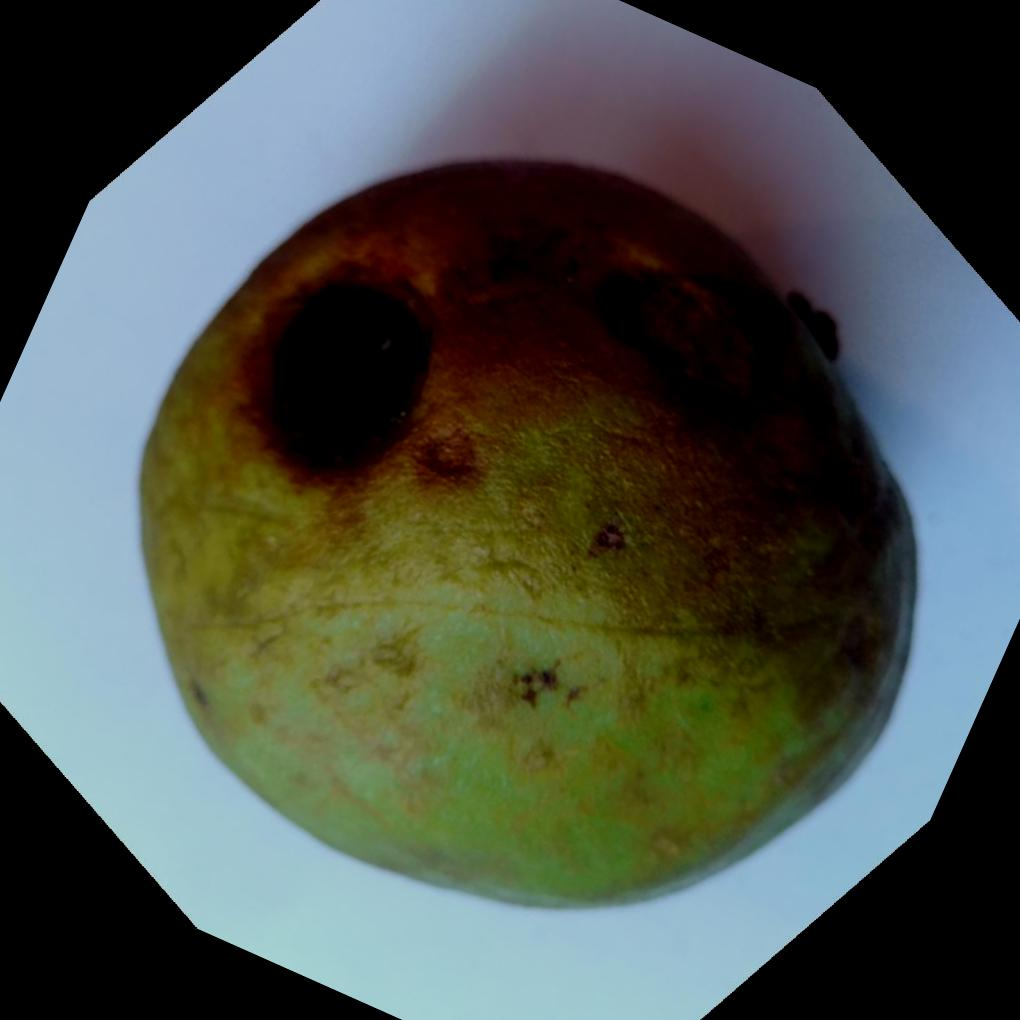FreshOrange: (136, 160, 920, 914)
